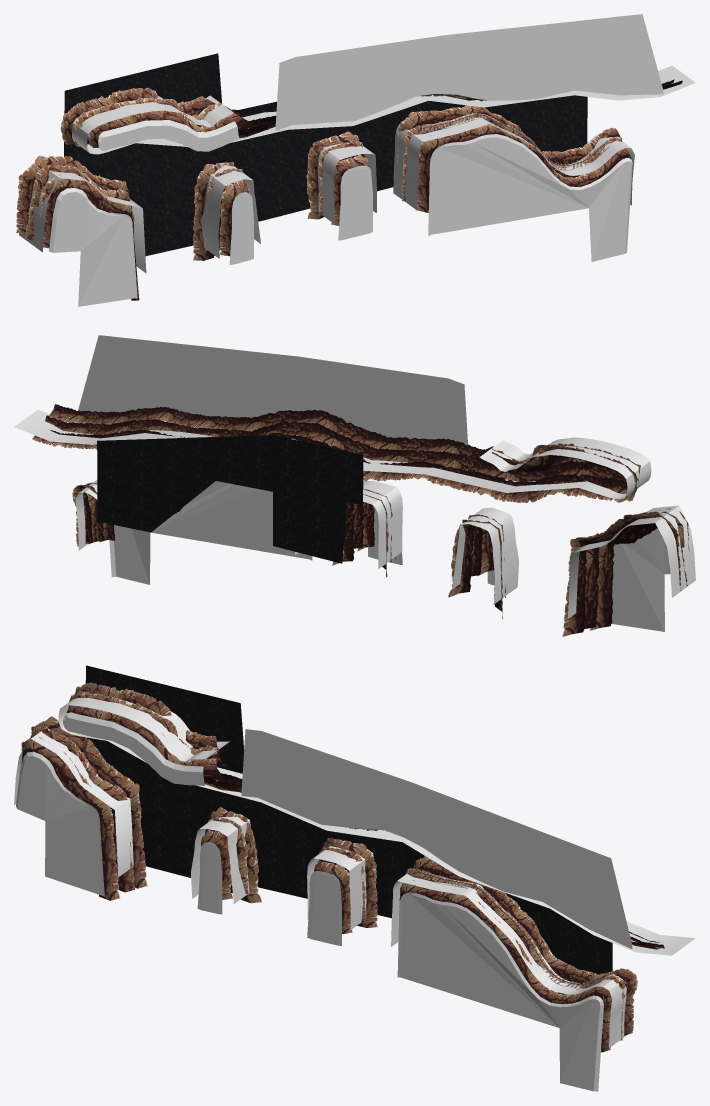
Rendered from Lvl 9 Pt 3.FBX.
3 renders of one model, top to bottom at view 1: azimuth 30°, elevation 25°; view 2: azimuth 150°, elevation 25°; view 3: azimuth 330°, elevation 25°, orthographic.
Visible parts, largest first — view 1: Black LVL pt 3_6, BG Lvl 9 Mines Pt 3_1, Black LVL pt 3_5, Lvl 9 Col Pt 3, Black LVL pt 3_2, BG Lvl 9 Mines Pt 3_2, Black LVL pt 3_1, Rock Pt 3_012FG, Black LVL pt 3_4, Rock Pt 3_018 BG, Rock Pt 3_008FG, Rock Pt 3_007 FG (+12 smaller); view 2: Black LVL pt 3_6, BG Lvl 9 Mines Pt 3_2, Lvl 9 Col Pt 3, Black LVL pt 3_5, Black LVL pt 3_2, Rock Pt 3_013 BG, Rock Pt 3_011 FG, Rock Pt 3_5, Rock Pt 3_6, Rock Pt 3_014 BG, Rock Pt 3_007 FG, Rock Pt 3_1 (+10 smaller); view 3: Black LVL pt 3_6, BG Lvl 9 Mines Pt 3_1, Lvl 9 Col Pt 3, Black LVL pt 3_5, Black LVL pt 3_2, BG Lvl 9 Mines Pt 3_2, Rock Pt 3_018 BG, Black LVL pt 3_1, Rock Pt 3_012FG, Rock Pt 3_008FG, Rock Pt 3_014 BG, Black LVL pt 3_4 (+12 smaller).
Boxes of the visible parts, x1,y1,x2,y2 form: Black LVL pt 3_6: (275,14,663,130); BG Lvl 9 Mines Pt 3_1: (64,53,323,256); Black LVL pt 3_5: (428,134,632,261); Lvl 9 Col Pt 3: (19,65,695,272); Black LVL pt 3_2: (49,188,137,306); BG Lvl 9 Mines Pt 3_2: (323,95,587,191); Black LVL pt 3_1: (98,120,239,151); Rock Pt 3_012FG: (417,124,631,212); Black LVL pt 3_4: (338,165,372,240); Rock Pt 3_018 BG: (397,105,620,165); Rock Pt 3_008FG: (40,174,139,300); Rock Pt 3_007 FG: (88,110,275,147); Black LVL pt 3_6: (78,335,467,445); BG Lvl 9 Mines Pt 3_2: (97,435,363,563); Lvl 9 Col Pt 3: (14,409,695,618); Black LVL pt 3_5: (109,481,312,584); Black LVL pt 3_2: (611,528,670,631); Rock Pt 3_013 BG: (339,445,637,502); Rock Pt 3_011 FG: (49,404,355,438); Rock Pt 3_5: (343,437,640,491); Rock Pt 3_6: (45,415,346,449); Rock Pt 3_014 BG: (562,513,681,636); Rock Pt 3_007 FG: (351,426,585,465); Rock Pt 3_1: (584,511,687,628); Black LVL pt 3_6: (241,729,632,948); BG Lvl 9 Mines Pt 3_1: (85,665,346,898); Lvl 9 Col Pt 3: (14,693,695,1047); Black LVL pt 3_5: (397,892,603,1091); Black LVL pt 3_2: (16,751,104,896); BG Lvl 9 Mines Pt 3_2: (347,834,612,974); Rock Pt 3_018 BG: (413,856,637,1035); Black LVL pt 3_1: (63,712,204,785); Rock Pt 3_012FG: (399,880,612,1052); Rock Pt 3_008FG: (21,737,120,900); Rock Pt 3_014 BG: (30,716,147,888); Black LVL pt 3_4: (307,870,341,945).
Bounding box in the file's own units: 17373 × 1286 × 6970.
